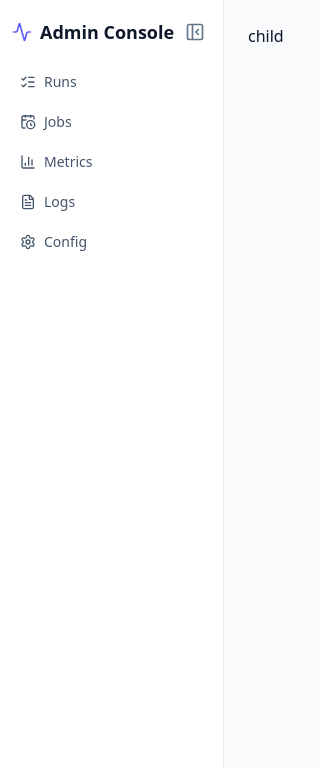
Test case: Layout sidebar collapse › toggles the sidebar labels via the collapse button
The width and height of the screenshot is (320, 768).
Check: the link "Runs" is shown, box [20,72,77,91]
What coordinates should you click on to do the following:
click the button named "Collapse sidebar"
I would click on:
 (195, 32)
Its box is [179,16,211,48].
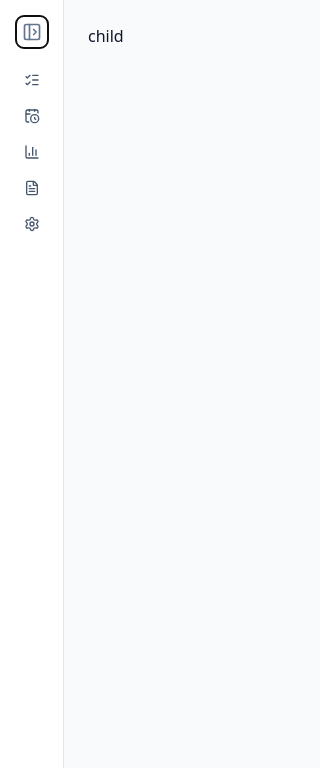
Check: the link "Runs" is gone
Check: the button named "Expand sidebar" is shown, box [16,16,48,48]
